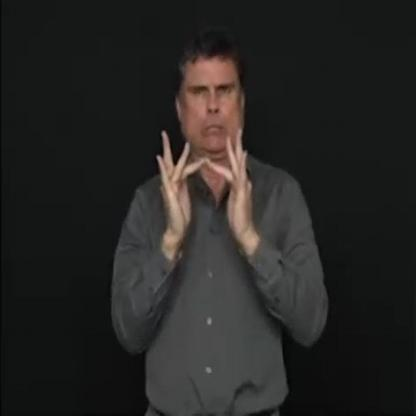Internet: (147, 124, 268, 240)
